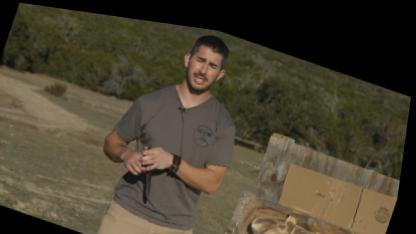knife: (121, 134, 169, 195)
